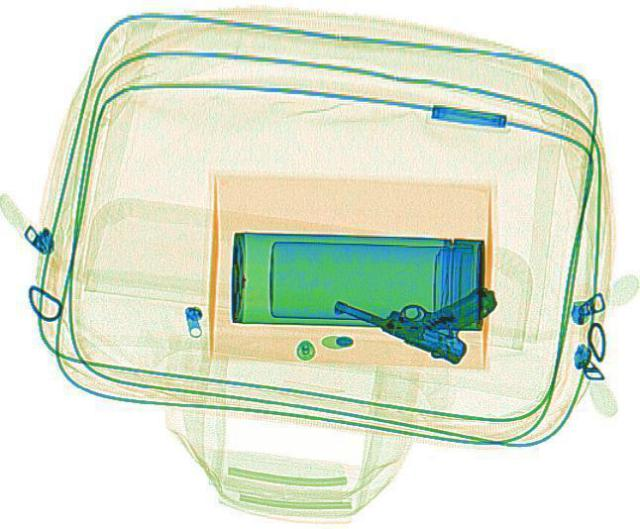Gun: (324, 240, 506, 365)
